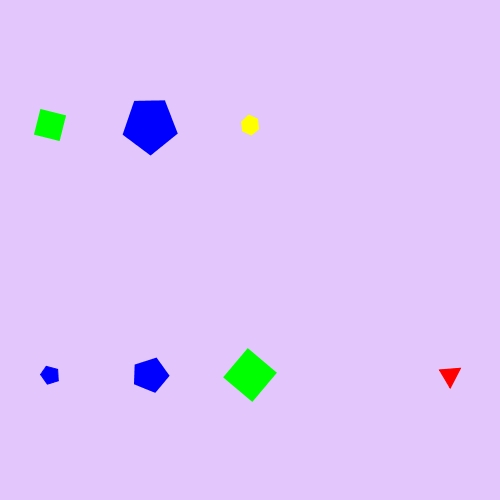hexagon: (235, 112, 265, 138)
pentagon: (120, 95, 181, 156), (129, 354, 172, 397), (36, 361, 64, 389)
quadrilateral: (220, 345, 280, 405), (28, 103, 72, 147)
triangle: (436, 360, 465, 390)
